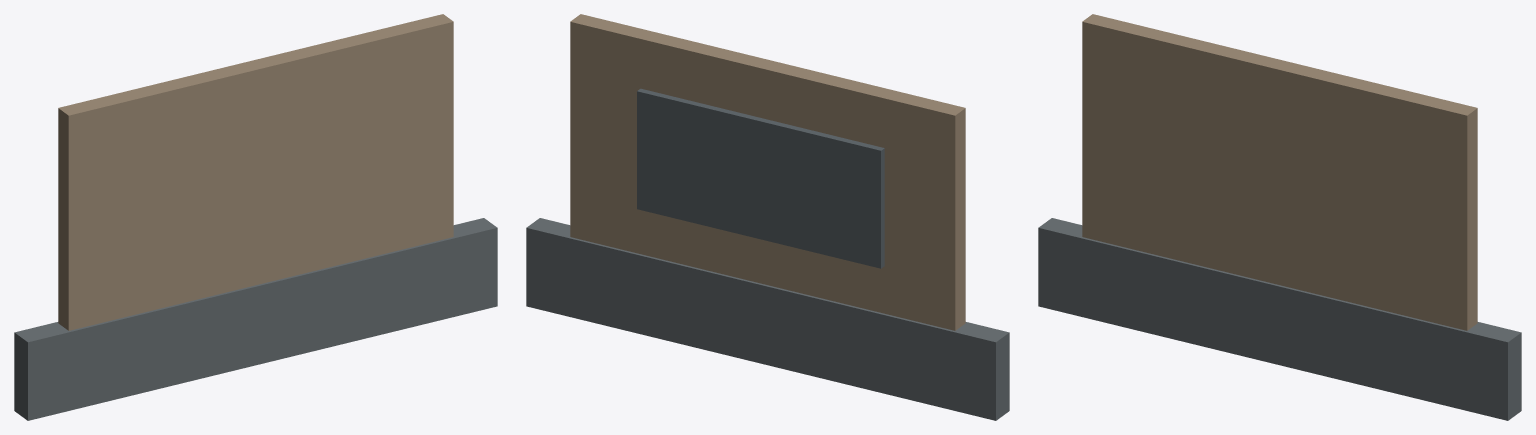
The model's file is iz3_school_board_02.glb.
3 views of the same model, side by side, from view 1: azimuth 30°, elevation 25°; view 2: azimuth 150°, elevation 25°; view 3: azimuth 330°, elevation 25° (orthographic).
Parts seen in each view (by area): view 1: cabinet, base; view 2: cabinet, base, panel; view 3: cabinet, base.
Boxes of the visible parts, <box> form: cabinet: <box>58,14,453,330</box>; base: <box>14,218,497,420</box>; cabinet: <box>570,14,965,330</box>; base: <box>526,218,1009,420</box>; panel: <box>637,88,884,268</box>; cabinet: <box>1082,14,1477,330</box>; base: <box>1038,218,1521,420</box>.
Bounding box in the file's own units: 2 × 1.2 × 0.116.
